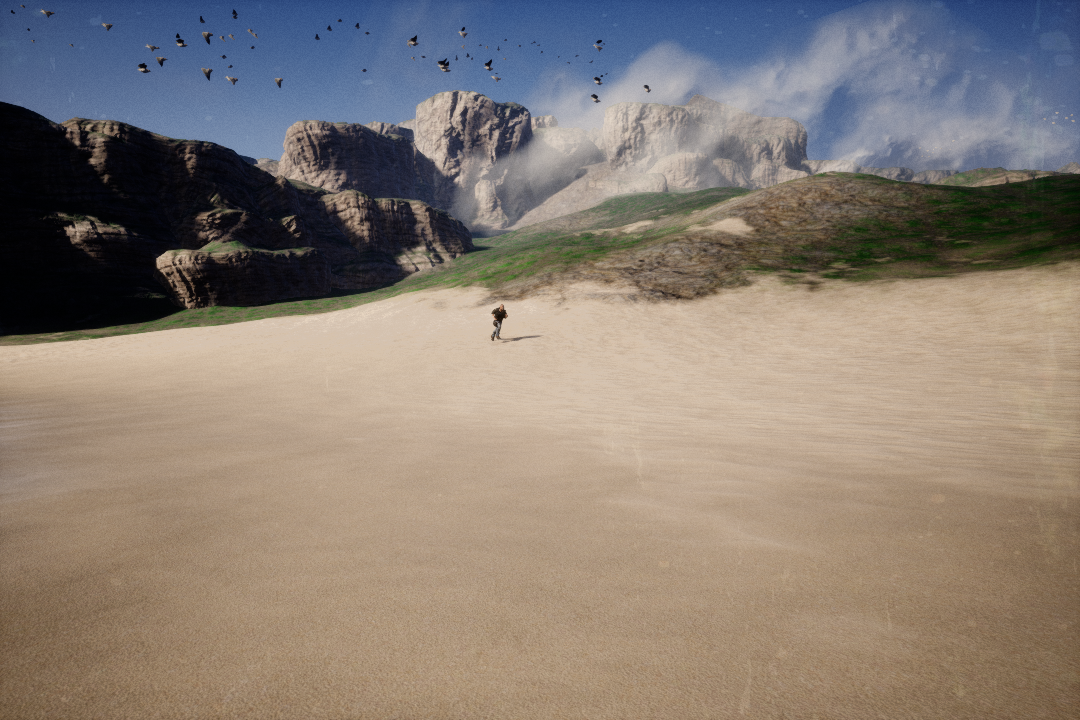person: (487, 297, 509, 345)
